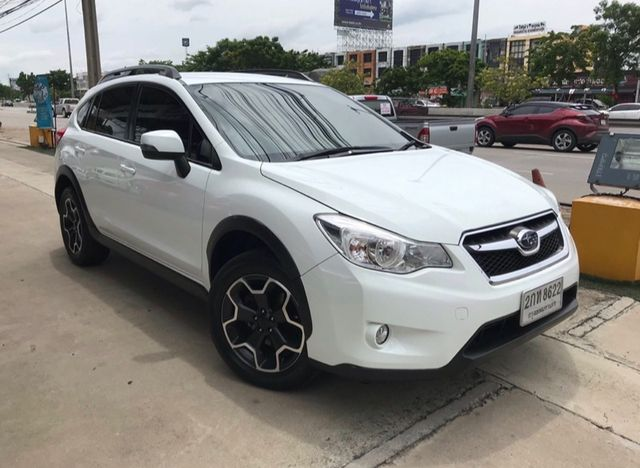pickup: (54, 62, 581, 390)
